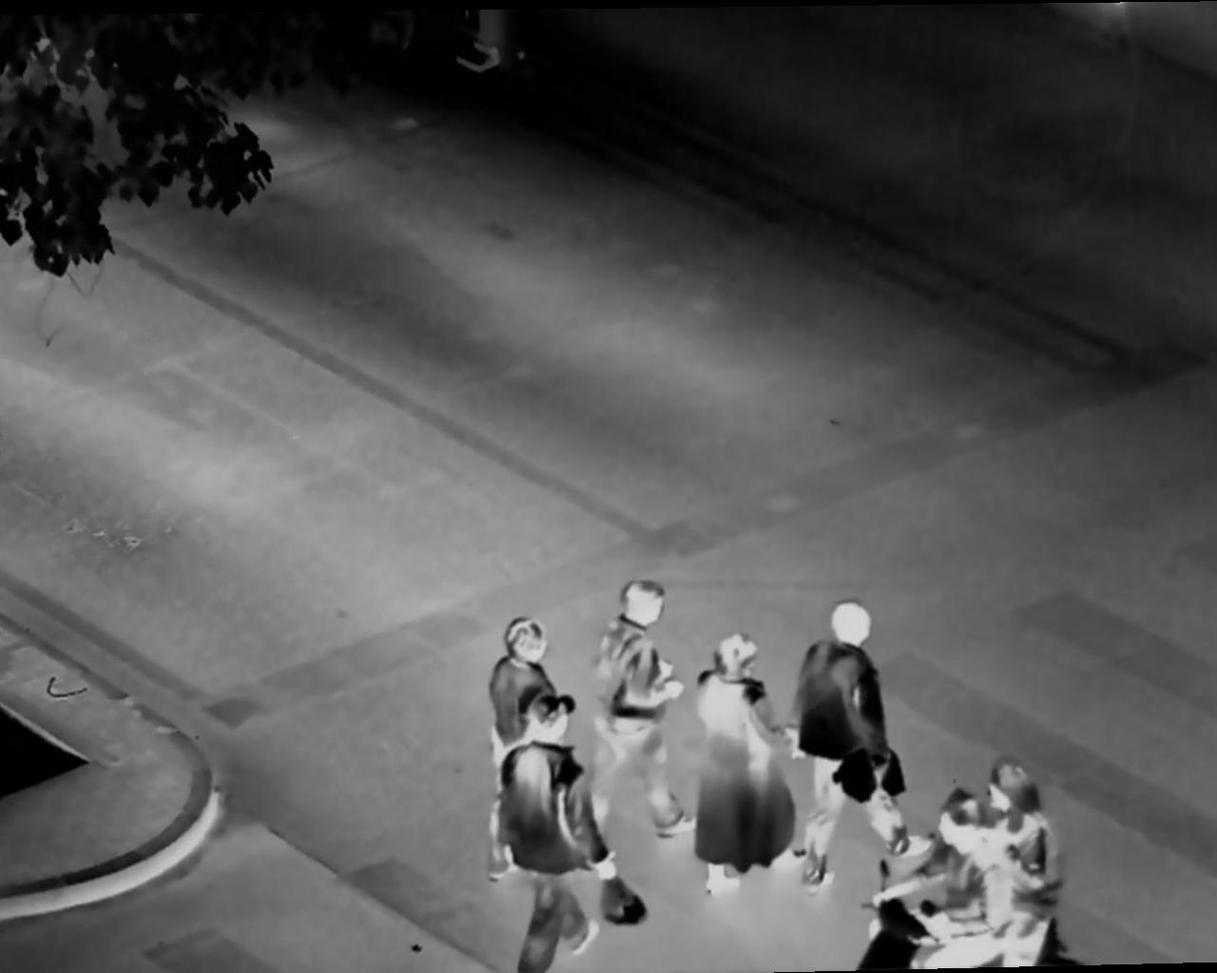person: (689, 637, 796, 903), (510, 688, 604, 973), (799, 600, 900, 853), (600, 581, 683, 845), (988, 760, 1066, 933), (921, 792, 1000, 945), (484, 618, 558, 712)
